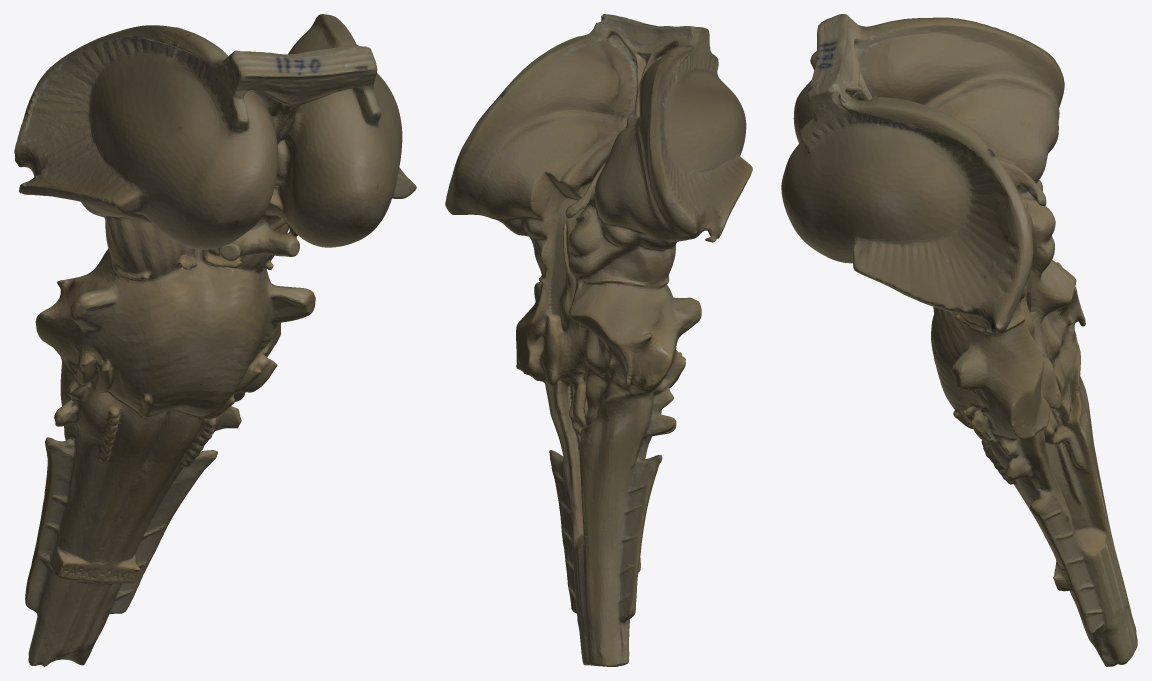
File: brainstem.obj
The picture shows the model from 3 angles, left to right: view 1: azimuth 30°, elevation 25°; view 2: azimuth 150°, elevation 25°; view 3: azimuth 270°, elevation 25°; orthographic projection. The views are drawn at different scales.
Parts seen in each view (by area): view 1: Sharp Fusion 1; view 2: Sharp Fusion 1; view 3: Sharp Fusion 1.
Part boxes in pixels (x1,y1,x2,y2): Sharp Fusion 1: [14, 14, 416, 666]; Sharp Fusion 1: [445, 14, 752, 666]; Sharp Fusion 1: [781, 14, 1137, 666].
Size of the model in its own units: 111 by 208 by 102.
1 material, 1 textured.
